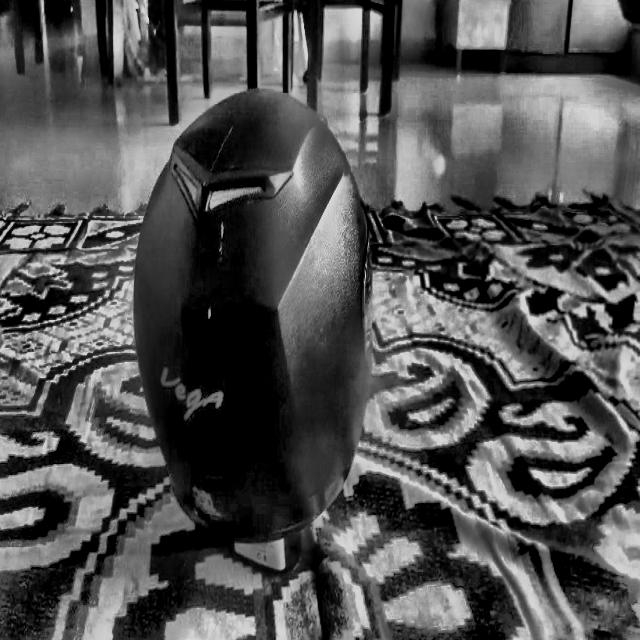Helmet: (131, 75, 380, 575)
